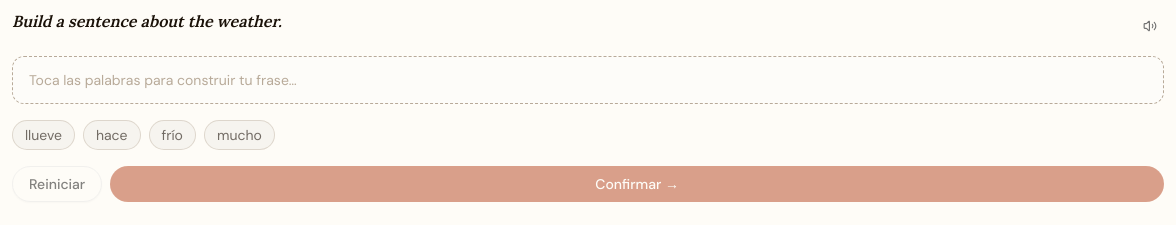
Test: SentenceBuilder › adds word to selected area when chip is clicked
The image size is (1176, 225).
Click the button "llueve". click: {"x": 43, "y": 135}
box: [12,120,75,150]
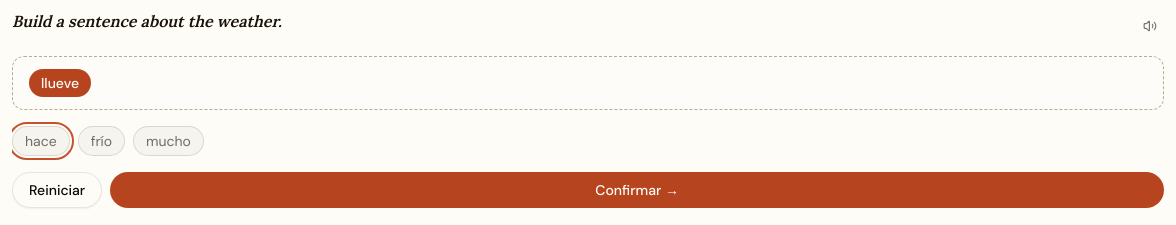
Now the button "Confirmar →" is enabled, box [110,172,1164,208]
